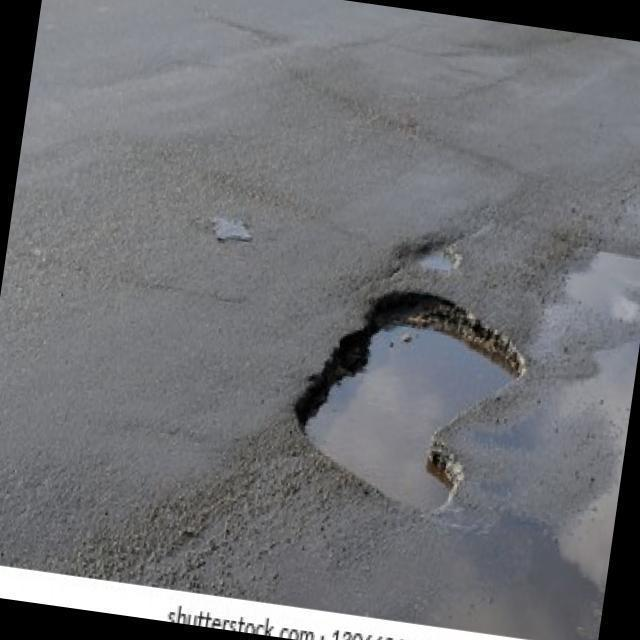pothole: (279, 276, 534, 529), (412, 238, 463, 274)
